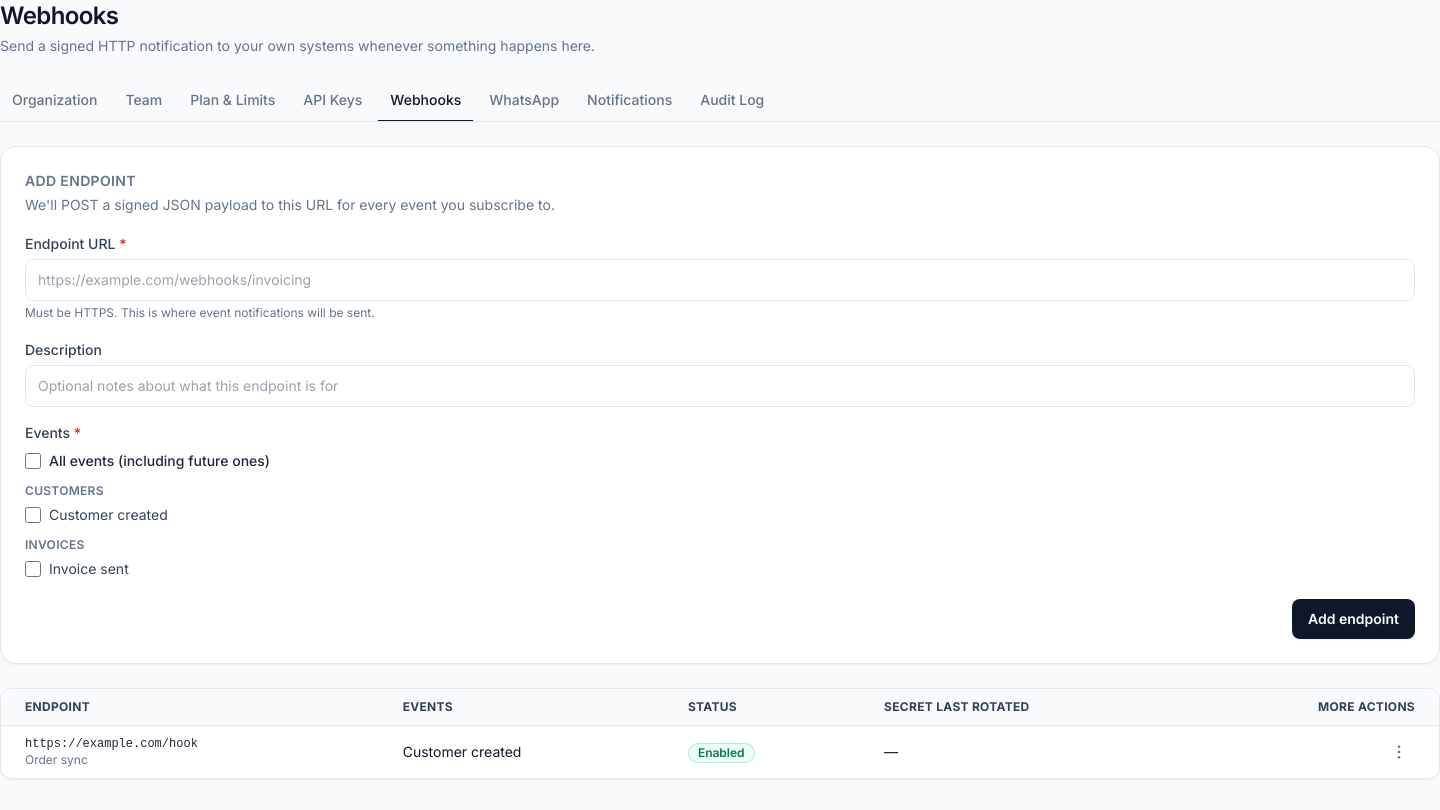
it: WebhooksPage › rotates the secret after confirmation and shows the new secret once
Expected: the text "https://example.com/hook" is shown, top-left (25, 737), bottom-right (198, 751)
Click the button named "More actions".
click(1399, 752)  # box top-left (1383, 736), bottom-right (1415, 768)
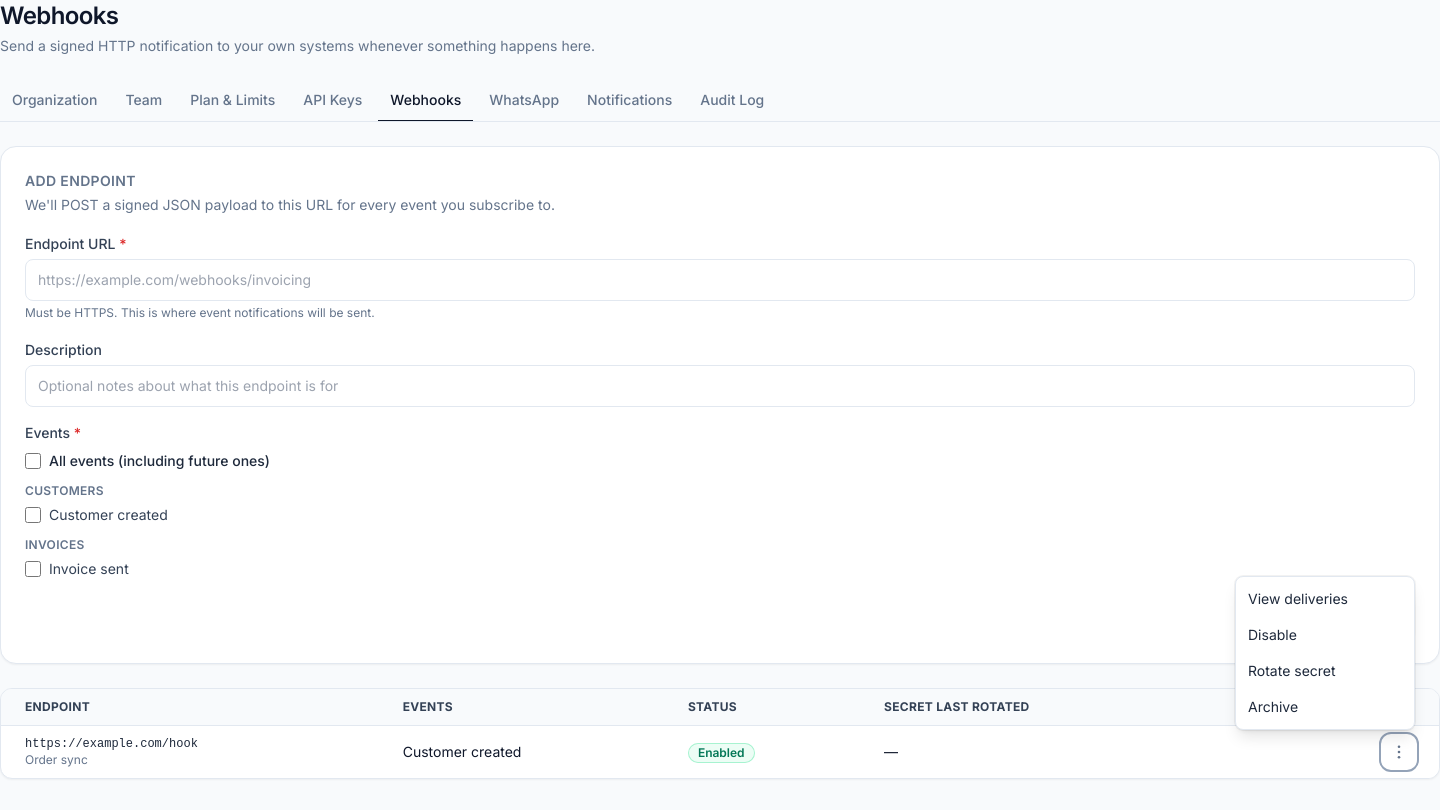
Click the menu item "Rotate secret".
click(1325, 671)  # box top-left (1236, 653), bottom-right (1414, 689)
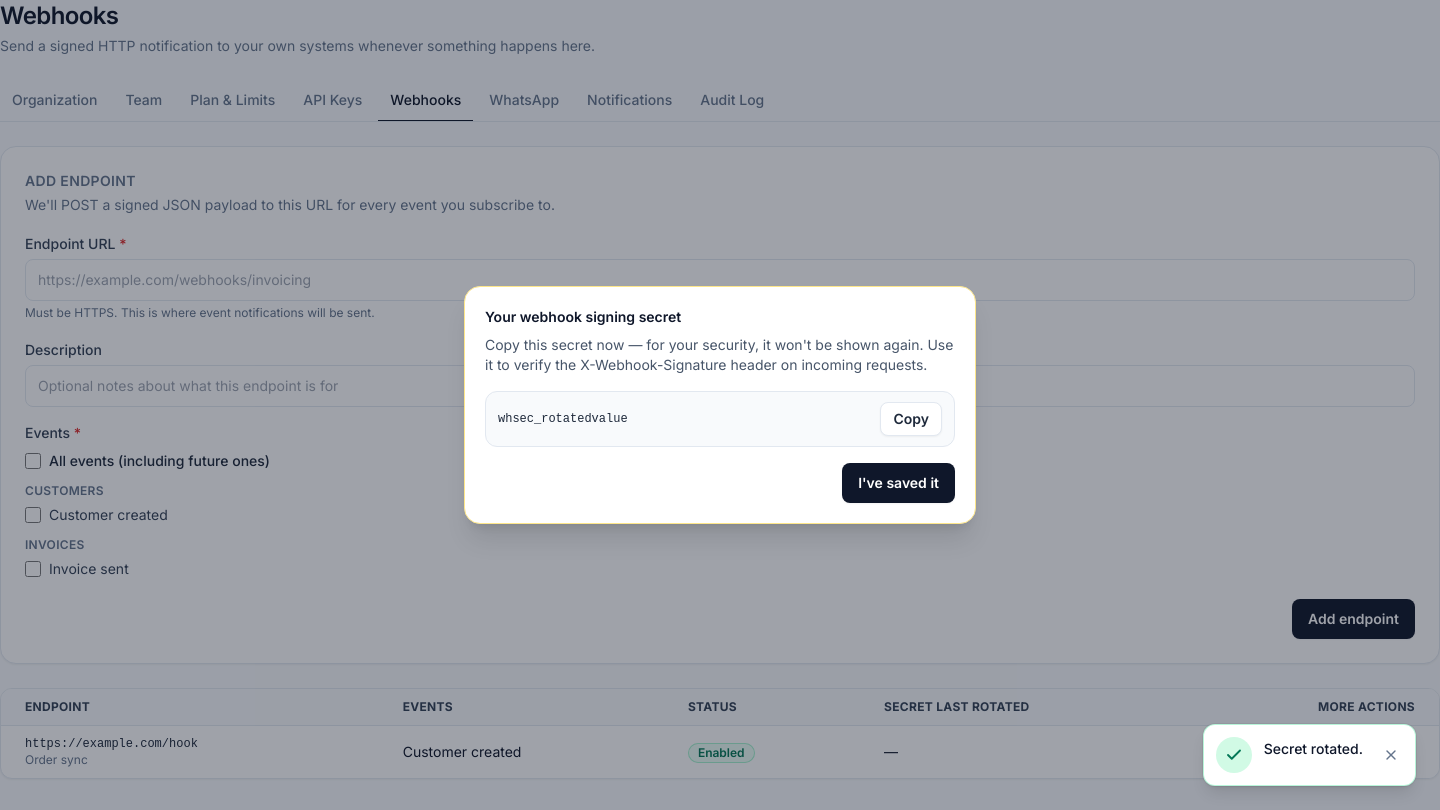
Expected: the text "whsec_rotatedvalue" is shown, top-left (498, 412), bottom-right (628, 426)
